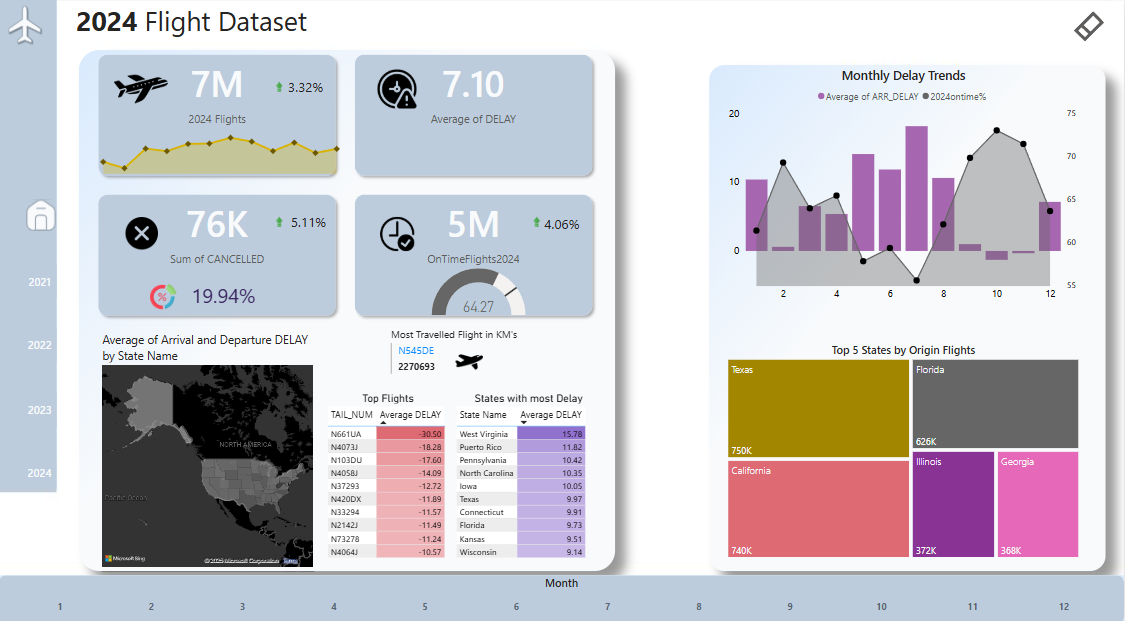

This screenshot's page, from the dashboard's own definition file:
{"tool":"powerbi","page":{"name":"2024","canvas":[1800,1000],"ordinal":4},"visuals":[{"type":"actionButton","box":[0,0,92,784],"z":0,"group":"g2"},{"type":"textbox","box":[117.5,0,607.5,85],"z":0},{"type":"group","id":"g1","title":"Group 1","box":[38,424,54.1,359.2],"z":0,"group":"g3"},{"type":"actionButton","box":[38,424,54.1,54.5],"z":0,"group":"g1"},{"type":"actionButton","box":[0,922,1800,78],"z":0,"group":"g4"},{"type":"actionButton","box":[0,0,92.5,85],"z":1000,"group":"g2"},{"type":"cardVisual","fields":{"Data":["2024.2024 Flights","Sum(2024.CANCELLED)","Avg(2024.ARR_DELAY)","2024.OnTimeFlights2024"]},"box":[142.5,72.5,825,452.5],"z":1000},{"type":"actionButton","box":[41.8,316.1,50.3,60],"z":1000,"group":"g3"},{"type":"actionButton","box":[38,525.9,54.1,54.5],"z":1000,"group":"g1"},{"type":"slicer","title":"Month","fields":{"Values":["2021.MONTH"]},"box":[0,922,1800,78],"z":1000,"group":"g4"},{"type":"group","id":"g2","title":"Group 3","box":[0,0,92,784],"z":2000},{"type":"group","id":"g3","title":"Group 2","box":[38,316.1,54.1,467.1],"z":2000,"group":"g2"},{"type":"actionButton","box":[38,627.7,54.1,57.9],"z":2000,"group":"g1"},{"type":"actionButton","box":[38.3,733,53.8,50.2],"z":3000,"group":"g1"},{"type":"group","id":"g4","title":"Group 4","box":[0,922,1800,78],"z":3000},{"type":"treemap","title":"Top 5 States by Origin Flights","fields":{"Values":["2024.2024 Flights"],"Group":["2024.ORIGIN_STATE_NM"]},"box":[1162,550,570,348],"z":4000},{"type":"lineClusteredColumnComboChart","title":"Monthly Delay Trends","fields":{"Category":["2024.MONTH"],"Y2":["2024.2024ontime%"],"Y":["Avg(2024.ARR_DELAY)"]},"box":[1162,108,570,384],"z":5000},{"type":"lineChart","fields":{"Y":["2024.2024 Flights"],"Category":["2024.MONTH"]},"box":[117.5,200,437.5,85],"z":6000},{"type":"gauge","fields":{"Y":["2024.2024ontime%"]},"box":[670,425,195,85],"z":7000},{"type":"filledMap","title":"Average of Arrival and Departure DELAY by State Name","fields":{"Category":["2024.ORIGIN_STATE_NM"]},"box":[160,532.5,347.5,382.5],"z":8000},{"type":"tableEx","title":"Top Flights ","fields":{"Values":["2024.TAIL_NUM","Avg(2024.ARR_DELAY)"]},"box":[520,627.5,205,280],"z":9000},{"type":"card","fields":{"Values":["2024.percentcancel2024"]},"box":[197.5,437.5,322.5,72.5],"z":10000},{"type":"image","box":[187.5,450,150,52.5],"z":11000},{"type":"tableEx","title":"States with most Delay","fields":{"Values":["2024.DEST_STATE_NM","Avg(2024.ARR_DELAY)"]},"box":[725,627.5,242.5,280],"z":12000},{"type":"actionButton","box":[1687.5,16.2,112.5,56.2],"z":13000},{"type":"multiRowCard","title":"Most Travelled Flight in KM''s","fields":{"Values":["2024.TAIL_NUM","Sum(2024.DISTANCE)"]},"box":[622,524,258,102],"z":14000},{"type":"image","box":[712,554,80,54],"z":15000},{"type":"image","box":[152,96,150,96],"z":16000},{"type":"image","box":[188,344,80,62],"z":17000},{"type":"image","box":[552,108,170,72],"z":18000},{"type":"image","box":[562,340,150,72],"z":19000},{"type":"card","fields":{"Values":["2024.YOY2024 flights"]},"box":[448,128,86,30],"z":20000},{"type":"image","box":[433,121,29,37],"z":21000},{"type":"card","fields":{"Values":["2024.YOY2024 cancel"]},"box":[448,344,95,30],"z":22000},{"type":"card","fields":{"Values":["2024.YOY2024ontime"]},"box":[857,345,86,30],"z":23000},{"type":"image","box":[846,338,29,37],"z":24000},{"type":"image","box":[433,338,29,37],"z":25000}]}

Visuals, with their boxes on the page's 1800x1000 design canvas (x1, y1, x2, y2). These are canvas units, not pixel positions in the 1125x621 screenshot, which may show the page scaled, cropped or inside an application window:
actionButton: [left=0, top=0, right=92, bottom=784]
textbox: [left=118, top=0, right=725, bottom=85]
"Group 1" group: [left=38, top=424, right=92, bottom=783]
actionButton: [left=38, top=424, right=92, bottom=478]
actionButton: [left=0, top=922, right=1800, bottom=1000]
actionButton: [left=0, top=0, right=92, bottom=85]
cardVisual - 2024.2024 Flights x Sum(2024.CANCELLED): [left=142, top=72, right=968, bottom=525]
actionButton: [left=42, top=316, right=92, bottom=376]
actionButton: [left=38, top=526, right=92, bottom=580]
"Month" slicer: [left=0, top=922, right=1800, bottom=1000]
"Group 3" group: [left=0, top=0, right=92, bottom=784]
"Group 2" group: [left=38, top=316, right=92, bottom=783]
actionButton: [left=38, top=628, right=92, bottom=686]
actionButton: [left=38, top=733, right=92, bottom=783]
"Group 4" group: [left=0, top=922, right=1800, bottom=1000]
"Top 5 States by Origin Flights" treemap: [left=1162, top=550, right=1732, bottom=898]
"Monthly Delay Trends" lineClusteredColumnComboChart: [left=1162, top=108, right=1732, bottom=492]
lineChart - 2024.2024 Flights x 2024.MONTH: [left=118, top=200, right=555, bottom=285]
gauge - 2024.2024ontime%: [left=670, top=425, right=865, bottom=510]
"Average of Arrival and Departure DELAY by State Name" filledMap: [left=160, top=532, right=508, bottom=915]
"Top Flights " tableEx: [left=520, top=628, right=725, bottom=908]
card - 2024.percentcancel2024: [left=198, top=438, right=520, bottom=510]
image: [left=188, top=450, right=338, bottom=502]
"States with most Delay" tableEx: [left=725, top=628, right=968, bottom=908]
actionButton: [left=1688, top=16, right=1800, bottom=72]
"Most Travelled Flight in KM''s" multiRowCard: [left=622, top=524, right=880, bottom=626]
image: [left=712, top=554, right=792, bottom=608]
image: [left=152, top=96, right=302, bottom=192]
image: [left=188, top=344, right=268, bottom=406]
image: [left=552, top=108, right=722, bottom=180]
image: [left=562, top=340, right=712, bottom=412]
card - 2024.YOY2024 flights: [left=448, top=128, right=534, bottom=158]
image: [left=433, top=121, right=462, bottom=158]
card - 2024.YOY2024 cancel: [left=448, top=344, right=543, bottom=374]
card - 2024.YOY2024ontime: [left=857, top=345, right=943, bottom=375]
image: [left=846, top=338, right=875, bottom=375]
image: [left=433, top=338, right=462, bottom=375]
